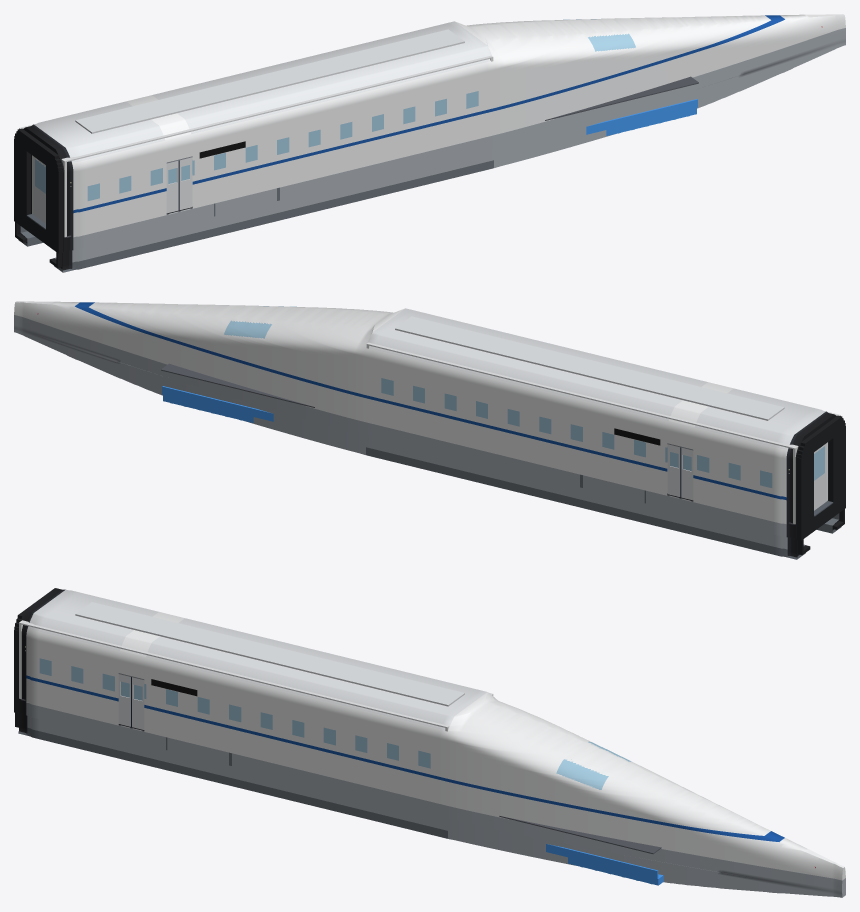
The model's file is mlx01_front.obj.
The picture shows the model from 3 angles, top to bottom: view 1: azimuth 30°, elevation 25°; view 2: azimuth 150°, elevation 25°; view 3: azimuth 330°, elevation 25°; orthographic projection.
Parts seen in each view (by area): view 1: SHELL, SHELL_roof, SHELL_diaphragm, BOGEY_FRONT, SHELL_ceiling, CONNECTING_DOOR_1_CG_CR_TOGGLE_TL_0.98_Z, EXTERNAL_DOOR_4_CG_DR1_TOGGLE_TL_0.39_X, EXTERNAL_DOOR_3_CG_DR1_TOGGLE_TL_-0.39_X, SHELL_floor; view 2: SHELL, SHELL_roof, SHELL_diaphragm, BOGEY_FRONT, SHELL_ceiling, CONNECTING_DOOR_1_CG_CR_TOGGLE_TL_0.98_Z, EXTERNAL_DOOR_7_CG_DL1_TOGGLE_TL_0.39_X, EXTERNAL_DOOR_6_CG_DL1_TOGGLE_TL_-0.39_X, SHELL_floor; view 3: SHELL, SHELL_roof, BOGEY_FRONT, SHELL_ceiling, SHELL_floor, EXTERNAL_DOOR_3_CG_DR1_TOGGLE_TL_-0.39_X, EXTERNAL_DOOR_4_CG_DR1_TOGGLE_TL_0.39_X.
Boxes of the visible parts, x1,y1,x2,y2 form: SHELL: (18, 14, 845, 272); SHELL_roof: (75, 29, 464, 133); SHELL_diaphragm: (14, 128, 62, 267); BOGEY_FRONT: (586, 99, 697, 135); SHELL_ceiling: (21, 56, 490, 161); CONNECTING_DOOR_1_CG_CR_TOGGLE_TL_0.98_Z: (33, 156, 45, 223); EXTERNAL_DOOR_4_CG_DR1_TOGGLE_TL_0.39_X: (179, 157, 192, 209); EXTERNAL_DOOR_3_CG_DR1_TOGGLE_TL_-0.39_X: (166, 160, 179, 213); SHELL_floor: (66, 76, 698, 237); SHELL: (14, 301, 841, 559); SHELL_roof: (395, 316, 784, 420); SHELL_diaphragm: (797, 415, 845, 554); BOGEY_FRONT: (162, 386, 273, 422); SHELL_ceiling: (369, 343, 838, 448); CONNECTING_DOOR_1_CG_CR_TOGGLE_TL_0.98_Z: (814, 443, 826, 510); EXTERNAL_DOOR_7_CG_DL1_TOGGLE_TL_0.39_X: (667, 444, 680, 496); EXTERNAL_DOOR_6_CG_DL1_TOGGLE_TL_-0.39_X: (680, 447, 693, 500); SHELL_floor: (161, 363, 793, 524); SHELL: (18, 588, 845, 897); SHELL_roof: (75, 602, 464, 706); BOGEY_FRONT: (546, 844, 663, 885); SHELL_ceiling: (20, 590, 490, 727); SHELL_floor: (21, 699, 661, 853); EXTERNAL_DOOR_3_CG_DR1_TOGGLE_TL_-0.39_X: (118, 674, 131, 726); EXTERNAL_DOOR_4_CG_DR1_TOGGLE_TL_0.39_X: (132, 677, 144, 729).
Bounding box in the file's own units: 28.16 × 3.98 × 2.92.
1 material, 1 textured.
